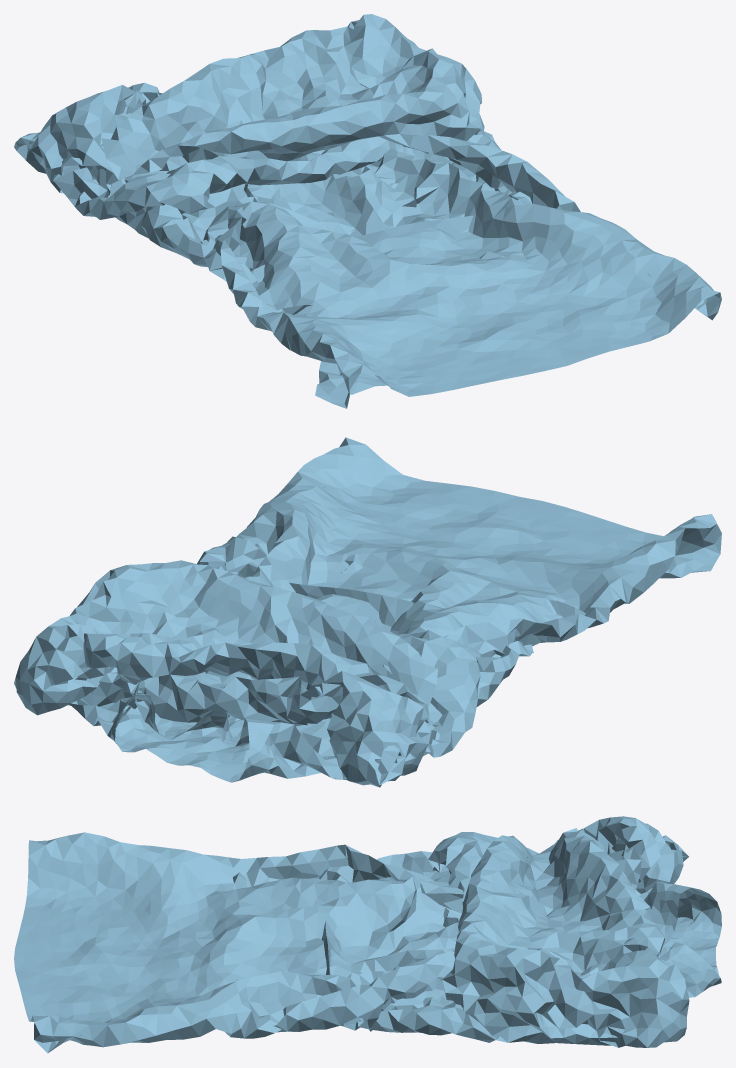
Rendered from frame_00.glb.
3 views of the same model, one above another, from view 1: azimuth 30°, elevation 25°; view 2: azimuth 150°, elevation 25°; view 3: azimuth 270°, elevation 25° (orthographic). The views are drawn at different scales.
Parts seen in each view (by area): view 1: frame_00.obj; view 2: frame_00.obj; view 3: frame_00.obj.
Part boxes in pixels (box(x1,y1,x2,y2)): frame_00.obj: box(14, 14, 721, 408); frame_00.obj: box(14, 437, 721, 787); frame_00.obj: box(14, 816, 721, 1053).
Bounding box in the file's own units: 0.9466 × 0.2221 × 1.49.
